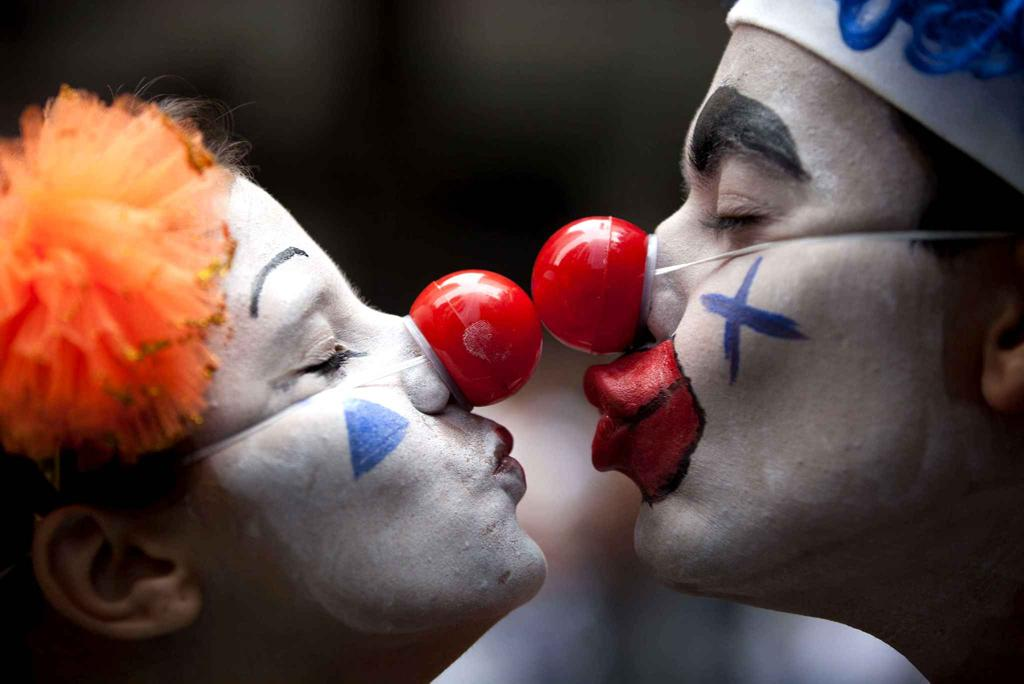face: (582, 2, 978, 588), (148, 184, 548, 612)
